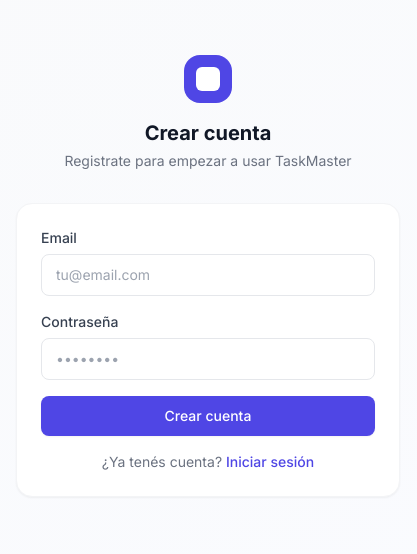
Test: AuthenticationPage › shows weak password error on register
The image size is (417, 554).
Type "test@test.com" into the field labelled "Email" at {"x": 208, "y": 275}, box [41,254,375,296]
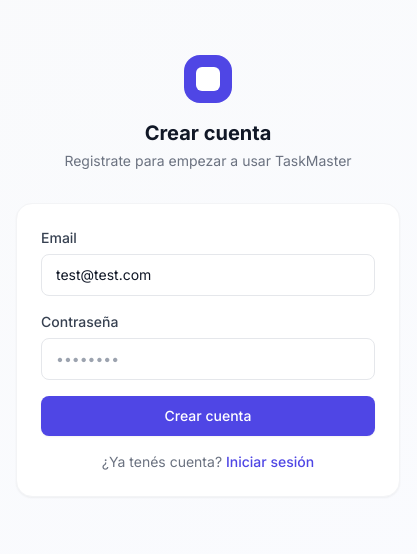
Type "1234" into the password field labelled "Contraseña" at {"x": 208, "y": 359}, box [41,338,375,380]
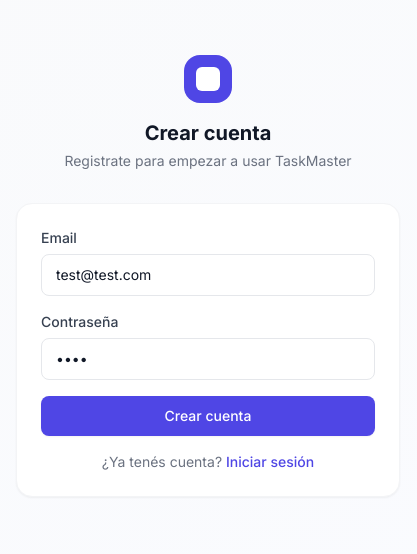
Click the button "Crear cuenta" at {"x": 208, "y": 416}, box [41,396,375,436]
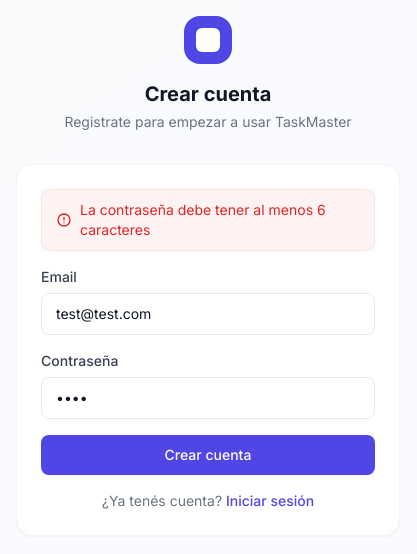
Check: the text "La contraseña debe tener al menos 6 caracteres" is shown, box [80,200,360,240]
